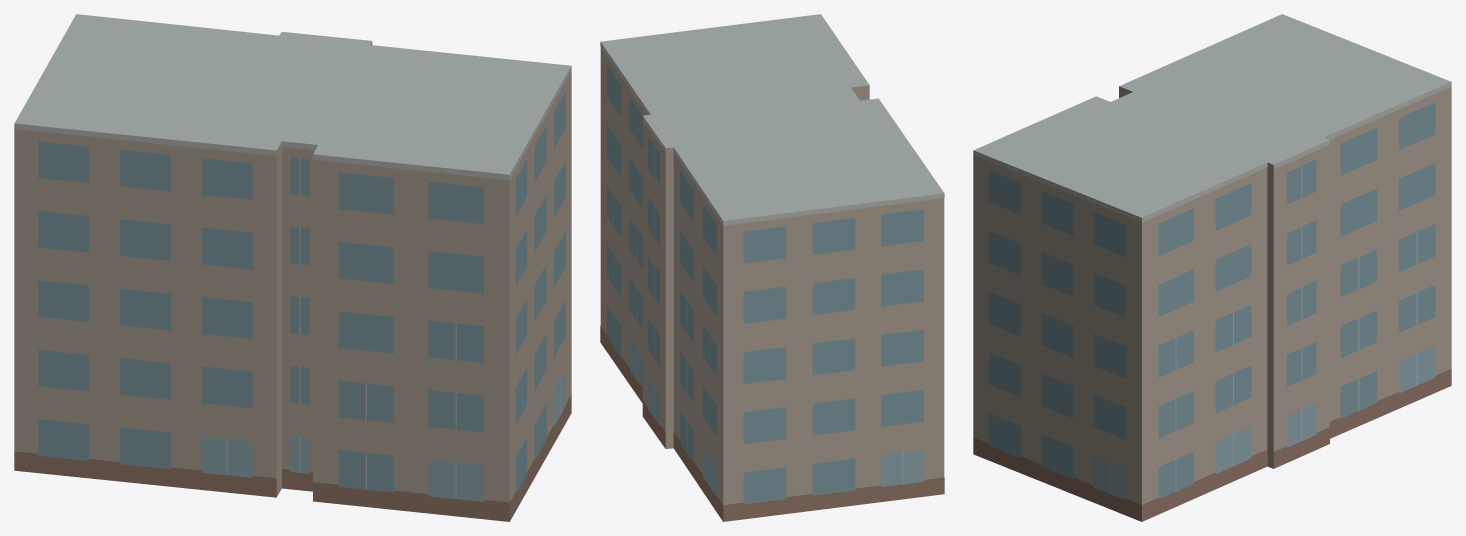
File: survey-upis-32832463.glb
3 views of the same model, side by side, from view 1: azimuth 30°, elevation 25°; view 2: azimuth 150°, elevation 25°; view 3: azimuth 270°, elevation 25° (orthographic). The views are drawn at different scales.
Parts seen in each view (by area): view 1: survey-upis-32832463.tmp; view 2: survey-upis-32832463.tmp; view 3: survey-upis-32832463.tmp.
Boxes of the visible parts, <box> form: survey-upis-32832463.tmp: <box>14,14,571,521</box>; survey-upis-32832463.tmp: <box>600,14,944,521</box>; survey-upis-32832463.tmp: <box>973,14,1451,521</box>.
Bounding box in the file's own units: 21.98 × 15.28 × 21.79.
